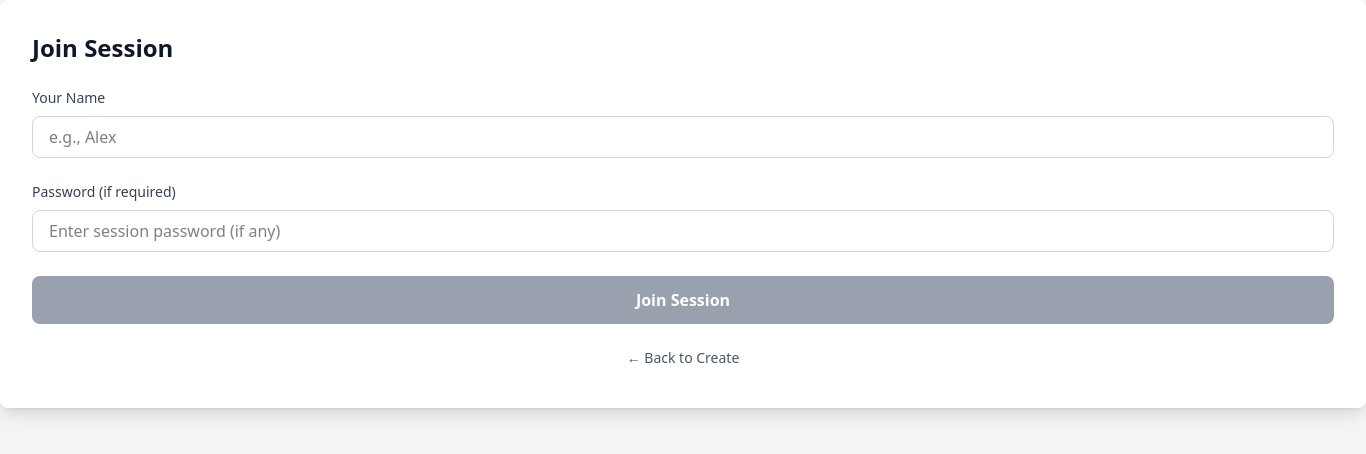
Test: JoinSessionCard › Form Validation › should show error for weak password
This screenshot has width=1366, height=454.
Type "short" into the password field with id "joinPassword" at (683, 231), box [32,210,1334,252]
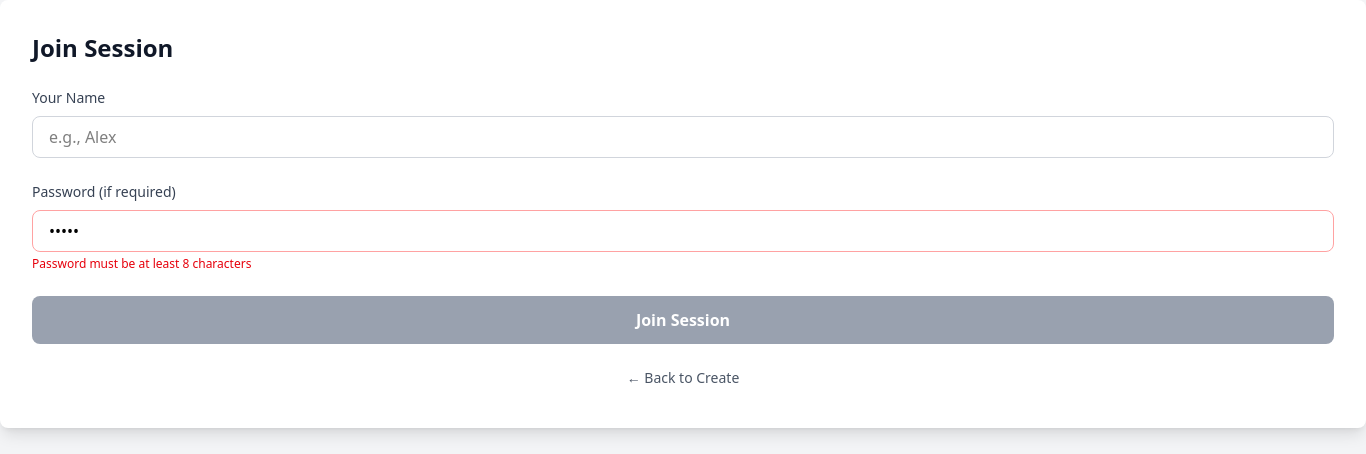
Result: the text "Password must be at least 8 characters" is shown at [32,255,251,272]
